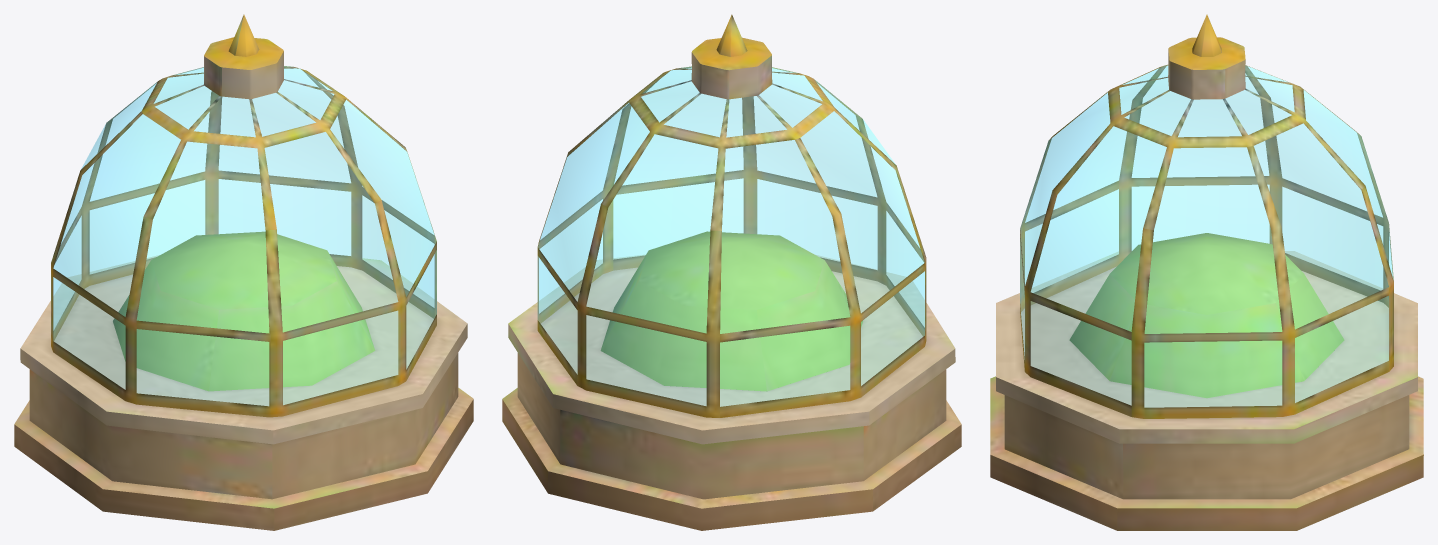
The model's file is skyline-dome.glb.
3 renders of one model, left to right at view 1: azimuth 30°, elevation 25°; view 2: azimuth 150°, elevation 25°; view 3: azimuth 270°, elevation 25°, orthographic.
Parts seen in each view (by area): view 1: skyline-dome; view 2: skyline-dome; view 3: skyline-dome.
Part boxes in pixels (x1,y1,x2,y2): skyline-dome: (14,14,473,530); skyline-dome: (502,14,961,530); skyline-dome: (990,14,1423,530).
Size of the model in its own units: 13.86 by 15 by 13.86.
Materials: 6 (5 with a texture image).
